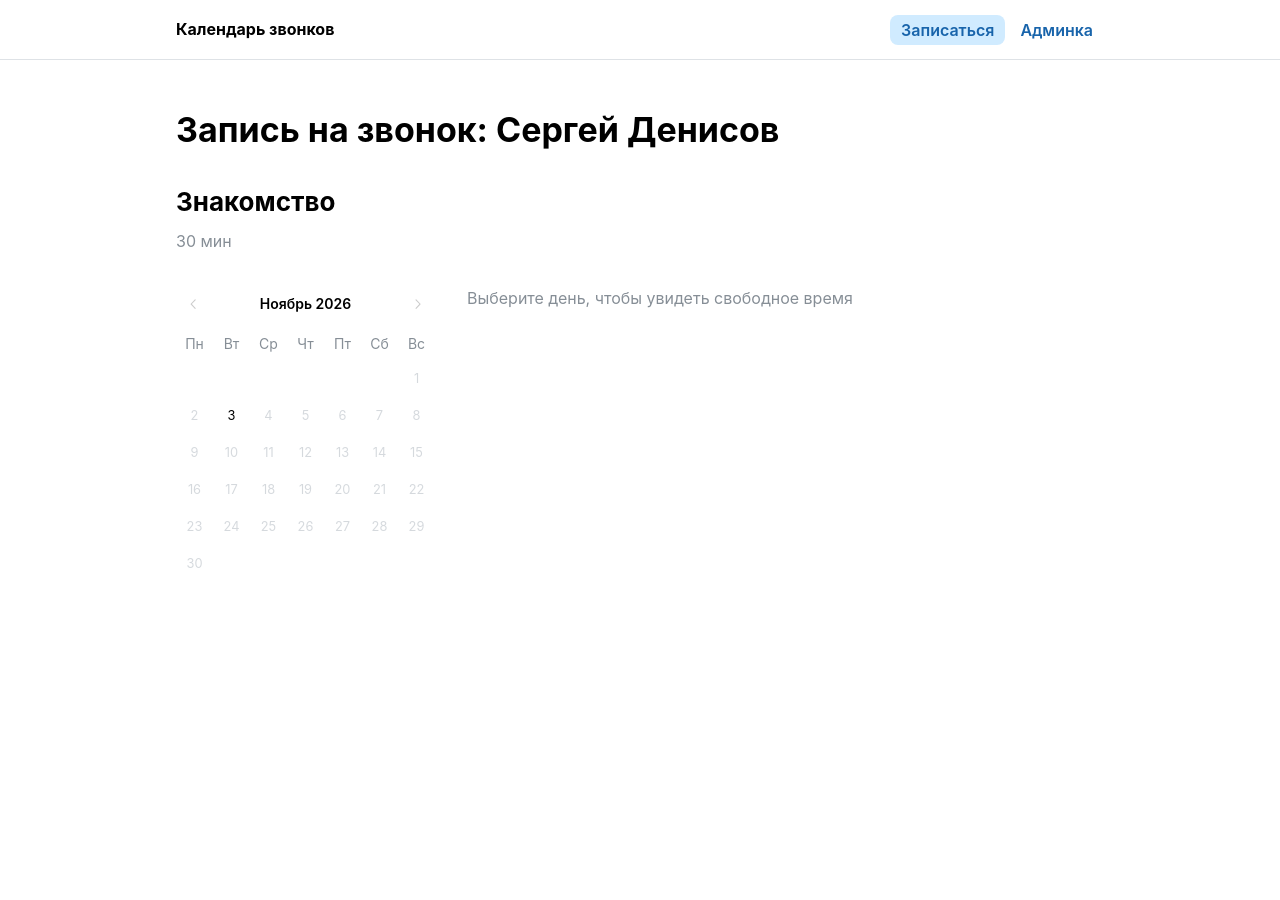
Test case: the booking form › does not send a form without a name or an email
The image size is (1280, 900).
Step 1. Click the button named "3 ноября 2026" → (232, 416), box 214,398 -> 250,434
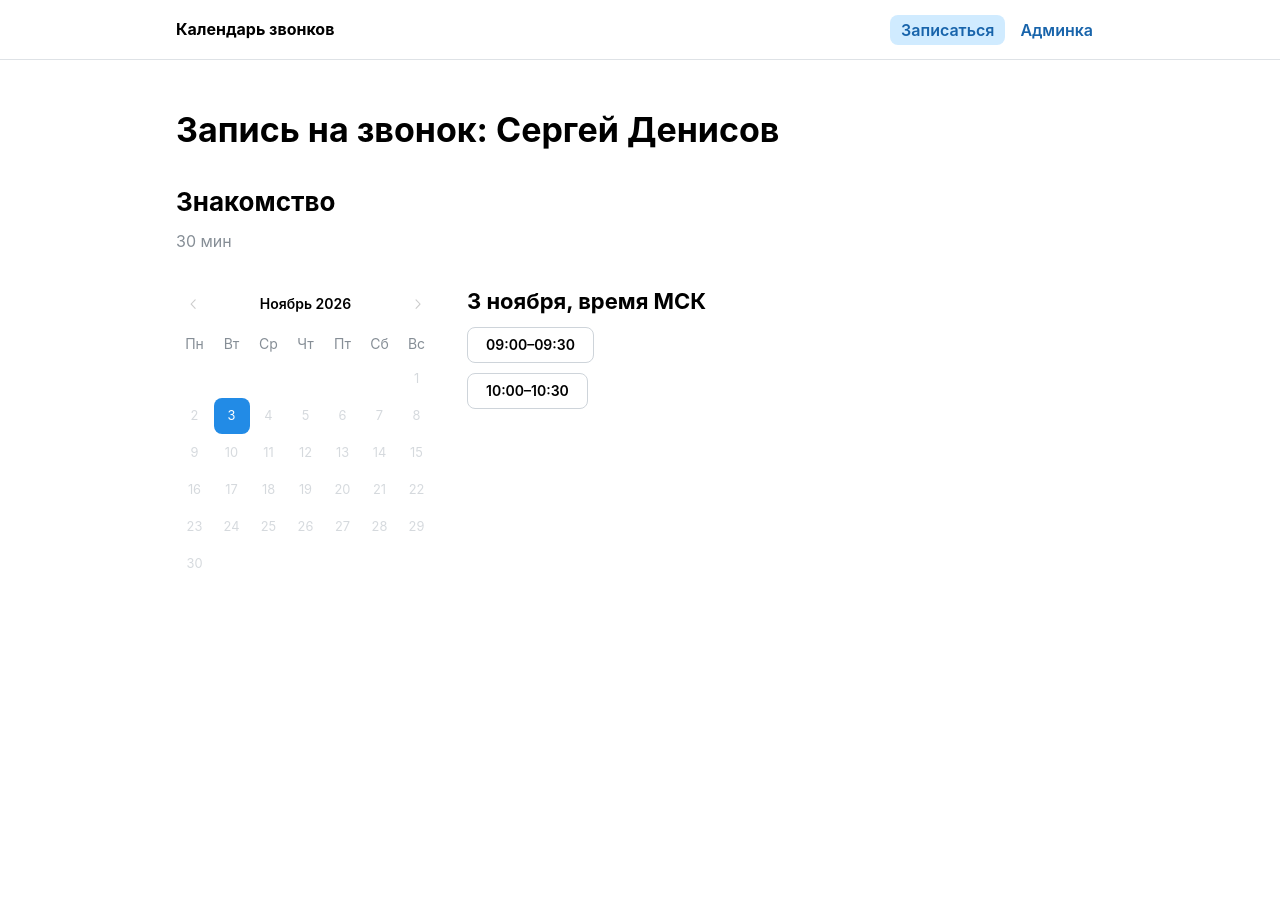
Step 2. Click the button "10:00–10:30" → (527, 391), box 467,373 -> 588,409
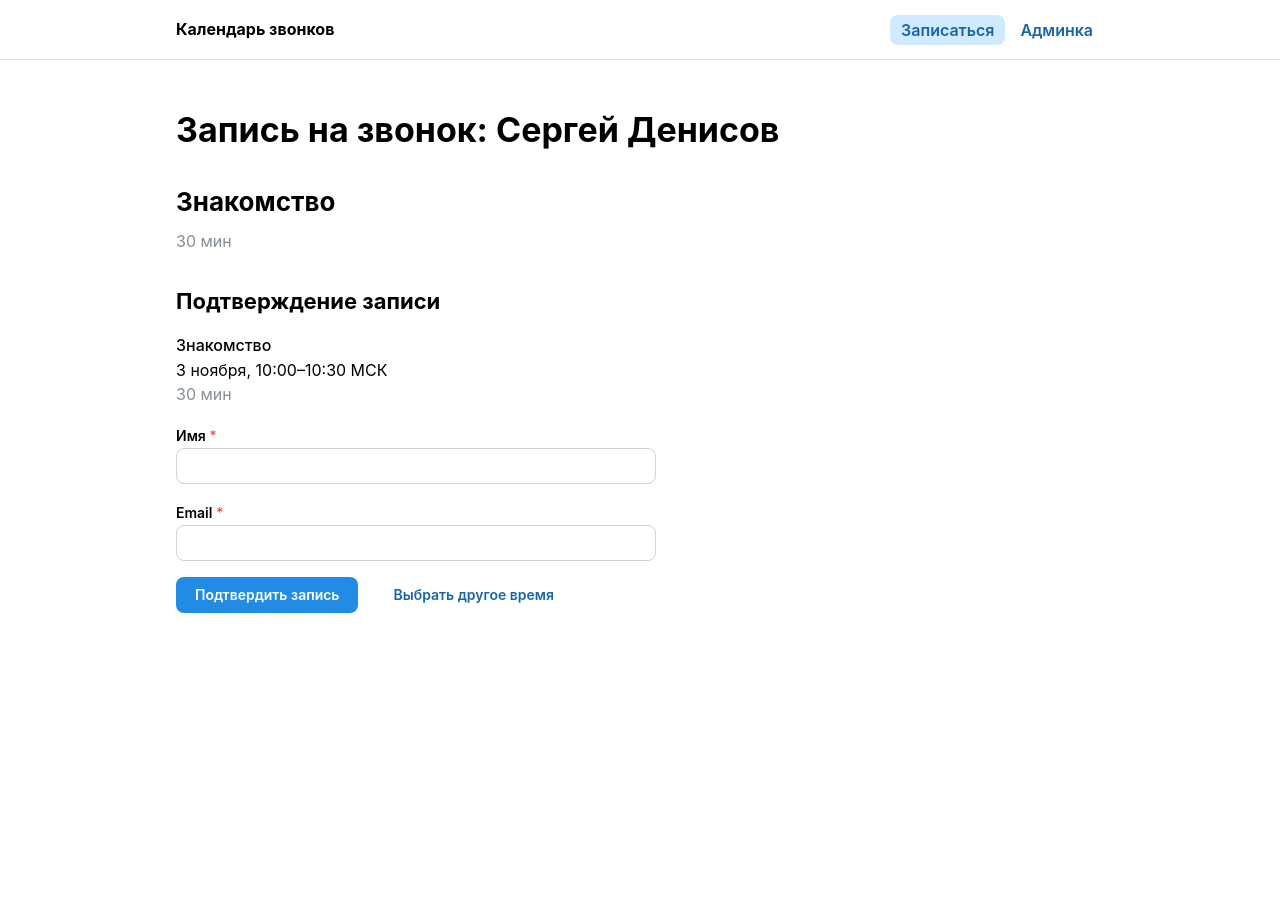
Step 3. Click the button "Подтвердить запись" → (267, 595), box 176,577 -> 358,613
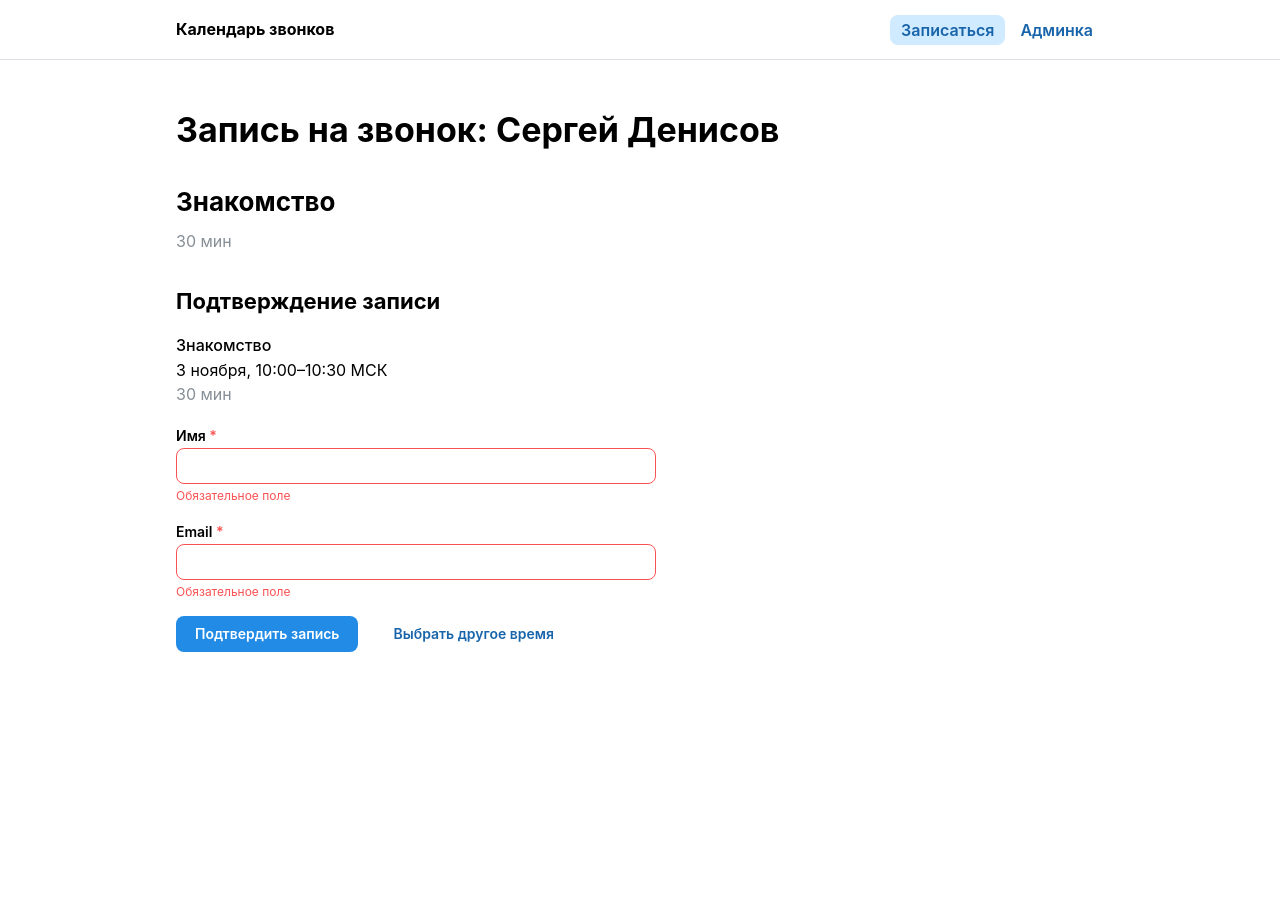
expect the text "Обязательное поле" below "Имя" is shown: met, box 176,488 -> 290,503
